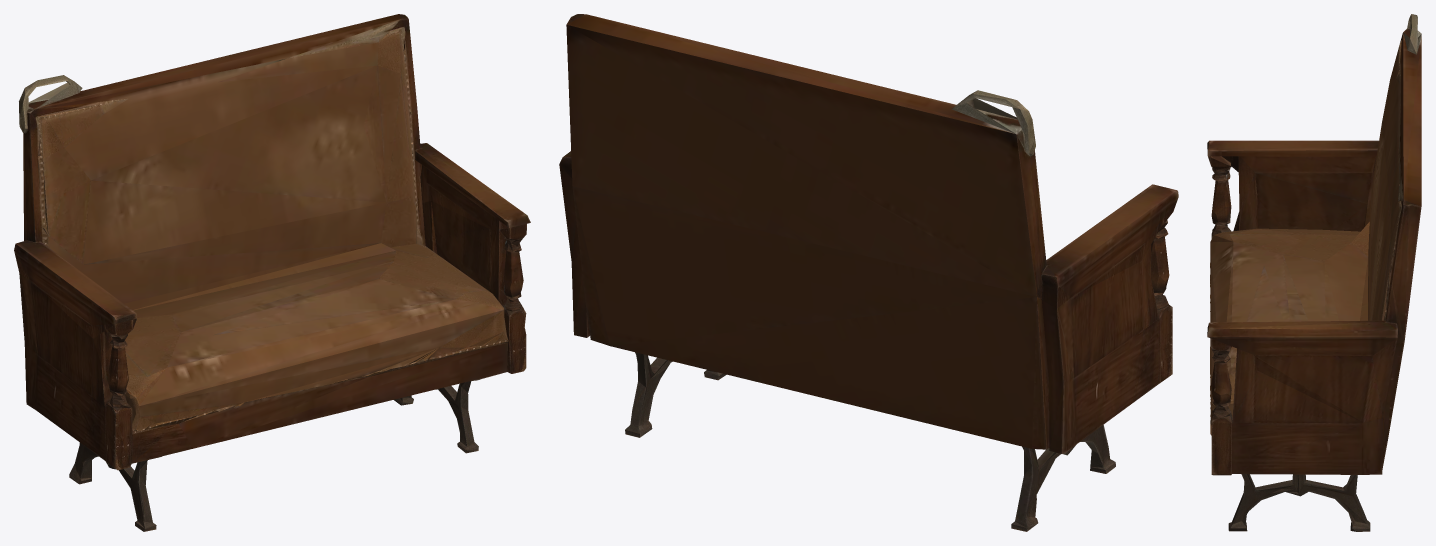
File: bench_lo.glb
The picture shows the model from 3 angles, left to right: view 1: azimuth 30°, elevation 25°; view 2: azimuth 150°, elevation 25°; view 3: azimuth 270°, elevation 25°; orthographic projection. The views are drawn at different scales.
Parts seen in each view (by area): view 1: Mesh_0; view 2: Mesh_0; view 3: Mesh_0.
Boxes of the visible parts, x1,y1,x2,y2 form: Mesh_0: [14, 14, 530, 531]; Mesh_0: [559, 14, 1178, 531]; Mesh_0: [1207, 14, 1421, 531].
Bounding box in the file's own units: 1.9 × 1.66 × 0.9003.
1 material, 1 textured.
